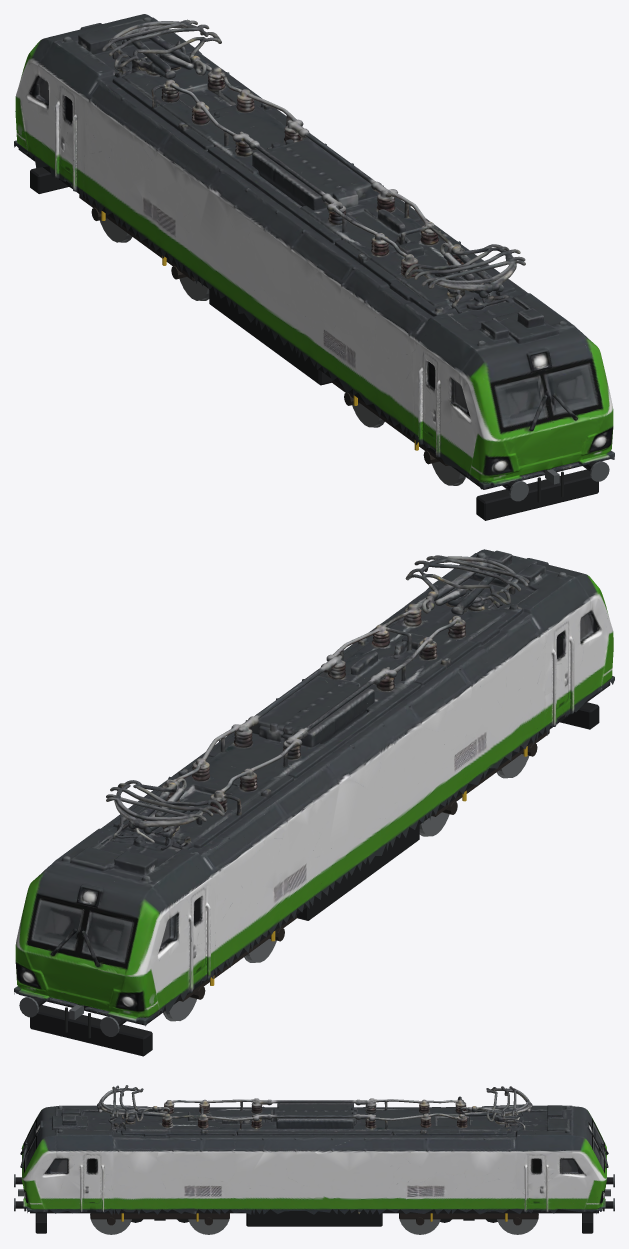
3 renders of one model, top to bottom at view 1: azimuth 30°, elevation 25°; view 2: azimuth 150°, elevation 25°; view 3: azimuth 270°, elevation 25°, orthographic. The views are drawn at different scales.
Parts seen in each view (by area): view 1: sr3_kori, Sr3_plough-1, Sr3_tank, sr3_frame; view 2: sr3_kori, Sr3_plough1, Sr3_tank, sr3_frame, Sr3_plough-1; view 3: sr3_kori, Sr3_tank, sr3_frame, Bogie_F_side1, Bogie_R_side1, Wheel_F2_wR, Wheel_R1_wR, Wheel_F1_wR, Wheel_R2_wR, Sr3_plough1, Sr3_plough-1.
Part boxes in pixels (box(x1,y1,x2,y2)): sr3_kori: box(14, 14, 614, 489); Sr3_plough-1: box(476, 469, 598, 520); Sr3_tank: box(209, 289, 331, 385); sr3_frame: box(18, 148, 609, 489); sr3_kori: box(14, 549, 614, 1026); Sr3_plough1: box(30, 1005, 152, 1056); Sr3_tank: box(297, 825, 419, 920); sr3_frame: box(19, 682, 610, 1025); Sr3_plough-1: box(560, 702, 599, 729); sr3_kori: box(20, 1085, 608, 1215); Sr3_tank: box(246, 1213, 382, 1226); sr3_frame: box(30, 1208, 598, 1213); Bogie_F_side1: box(90, 1213, 229, 1219); Bogie_R_side1: box(399, 1213, 538, 1219); Wheel_F2_wR: box(189, 1219, 228, 1234); Wheel_R1_wR: box(400, 1219, 439, 1234); Wheel_F1_wR: box(91, 1219, 131, 1234); Wheel_R2_wR: box(497, 1219, 537, 1234); Sr3_plough1: box(582, 1213, 593, 1233); Sr3_plough-1: box(35, 1213, 46, 1233).
Bounding box in the file's own units: 3 × 4.28 × 18.49.
Materials: 7 (1 with a texture image).
